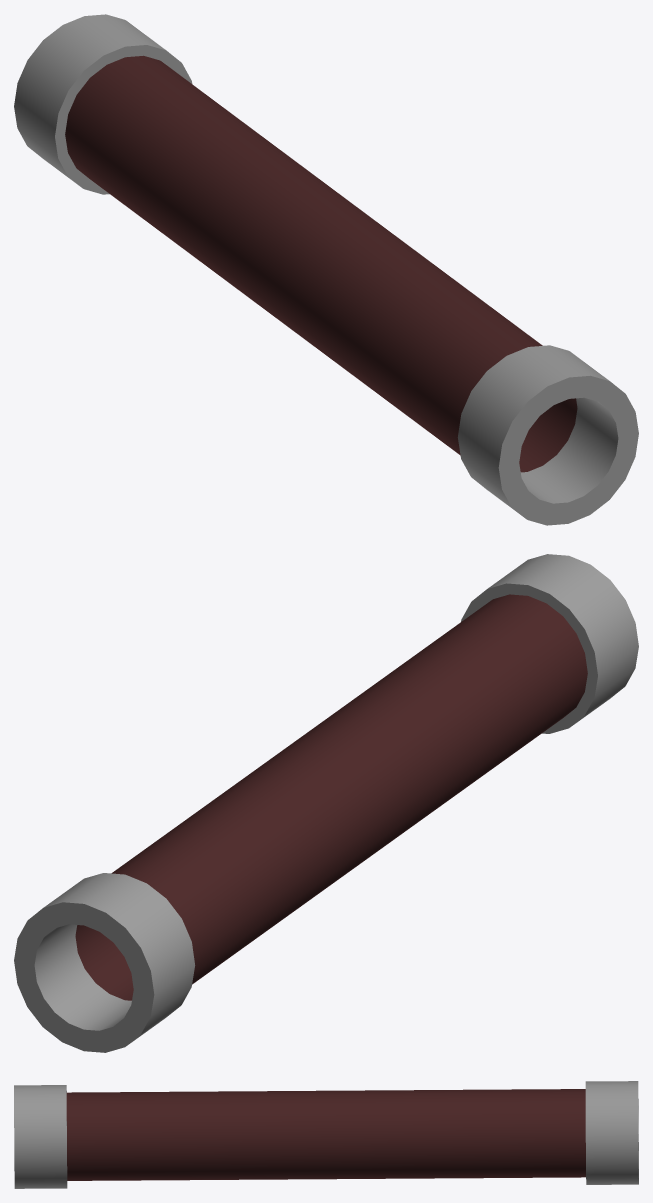
File: pijp2.fbx
3 views of the same model, one above another, from view 1: azimuth 30°, elevation 25°; view 2: azimuth 150°, elevation 25°; view 3: azimuth 270°, elevation 25° (orthographic). The views are drawn at different scales.
Parts seen in each view (by area): view 1: waterpijp1; view 2: waterpijp1; view 3: waterpijp1.
Part boxes in pixels (x1,y1,x2,y2): waterpijp1: (14, 14, 638, 525); waterpijp1: (14, 554, 638, 1052); waterpijp1: (14, 1081, 638, 1188).
Bounding box in the file's own units: 4.09 × 4.27 × 24.48.
